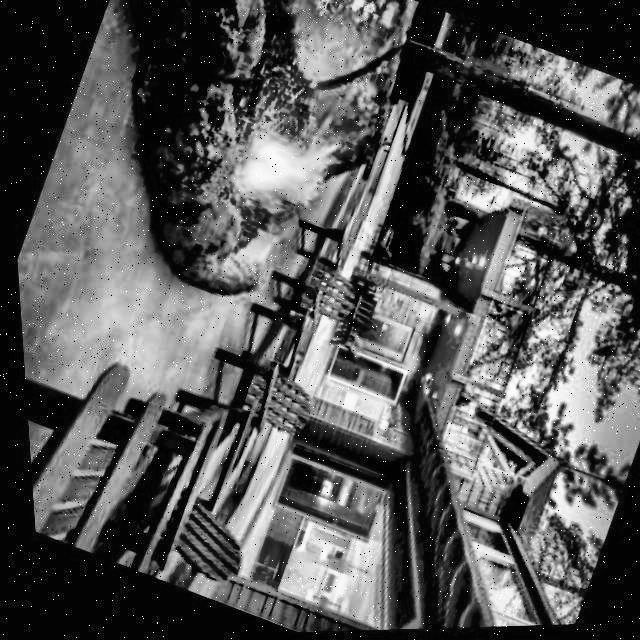Fire: (211, 92, 371, 243)
